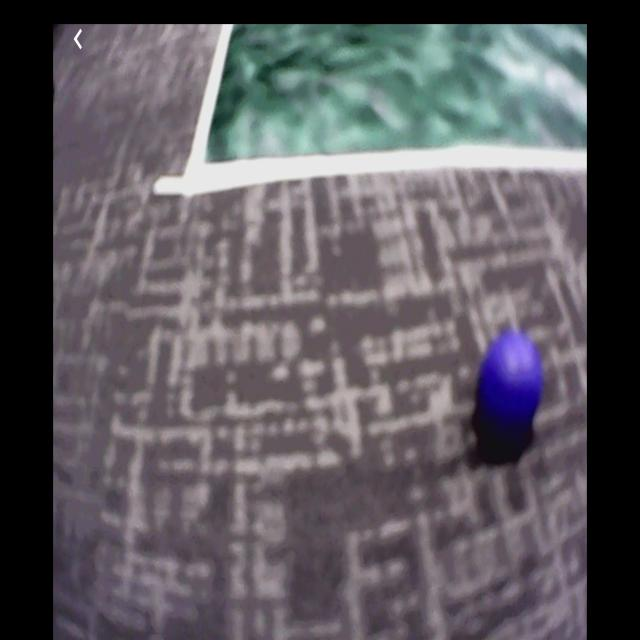ball: (480, 332, 544, 437)
